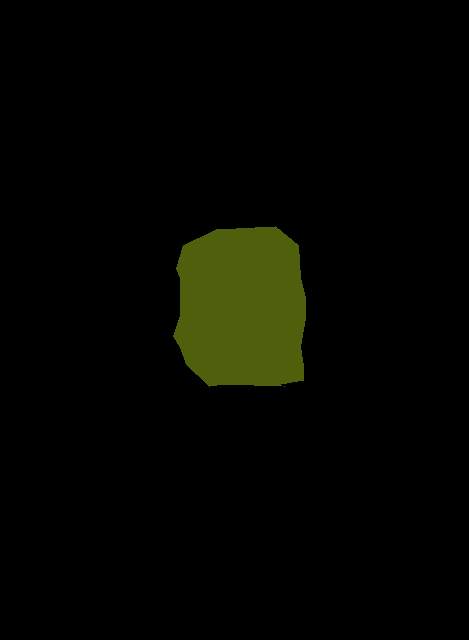Train: (173, 226, 306, 386)
